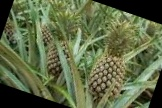Pineapple: (90, 17, 134, 100)
